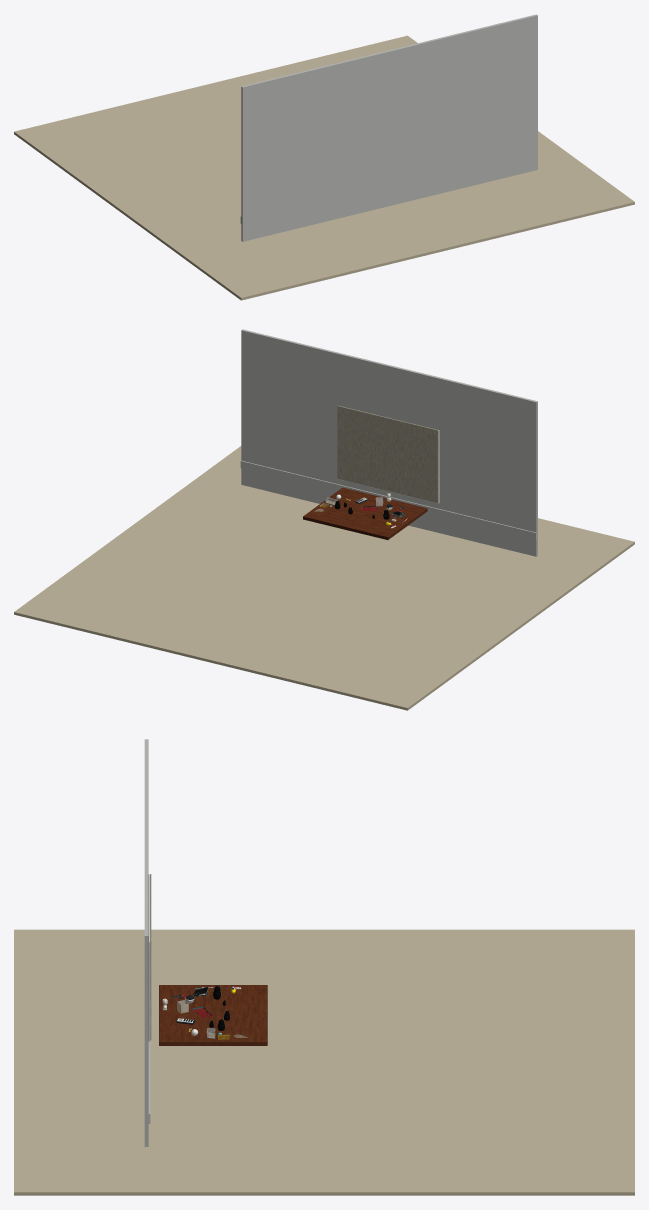
The model's file is viga.glb.
3 views of the same model, one above another, from view 1: azimuth 30°, elevation 25°; view 2: azimuth 150°, elevation 25°; view 3: azimuth 270°, elevation 25° (orthographic). The views are drawn at different scales.
Parts seen in each view (by area): view 1: floor, back wall; view 2: floor, back wall, wood panel, level walnut tabletop, baseboard; view 3: floor, level walnut tabletop, back wall.
Part boxes in pixels (box(x1,y1,x2,y2)): floor: box(14, 35, 634, 300); back wall: box(241, 14, 537, 241); floor: box(14, 446, 634, 710); back wall: box(241, 329, 537, 556); wood panel: box(337, 405, 438, 502); level walnut tabletop: box(303, 487, 427, 539); baseboard: box(240, 460, 536, 539); floor: box(14, 929, 634, 1195); level walnut tabletop: box(159, 985, 267, 1045); back wall: box(144, 739, 148, 1146).
Bounding box in the file's own units: 8 × 3.23 × 8.
29 materials, 13 textured.
